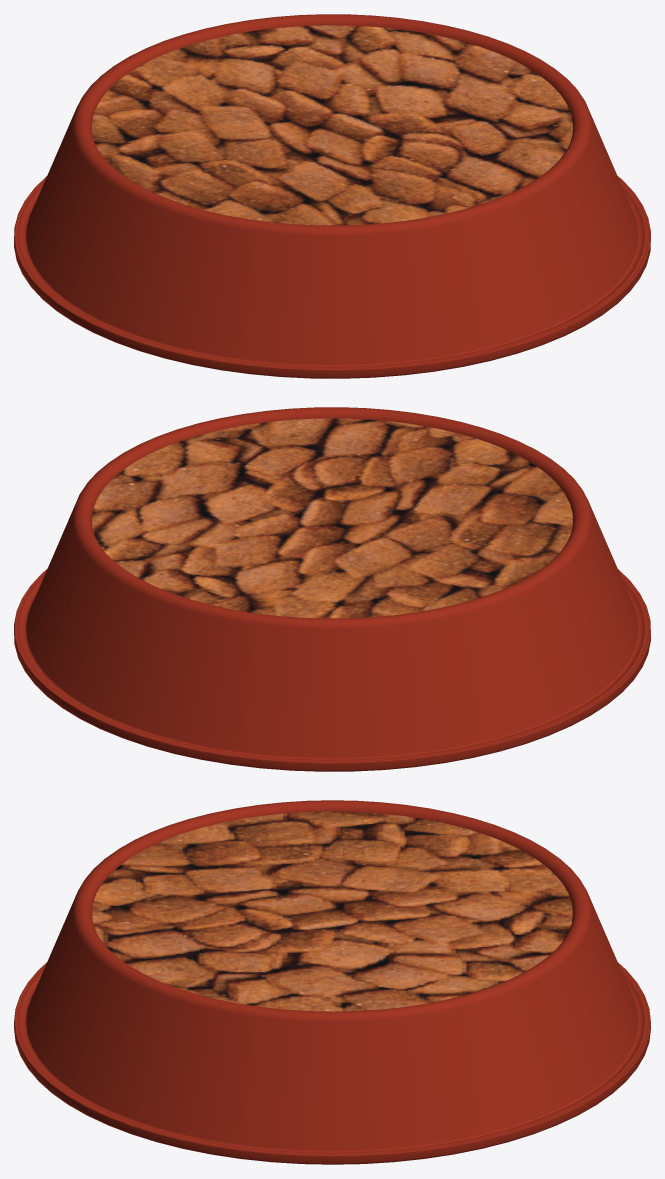
The model's file is bowlbowl.fbx.
The picture shows the model from 3 angles, top to bottom: view 1: azimuth 30°, elevation 25°; view 2: azimuth 150°, elevation 25°; view 3: azimuth 270°, elevation 25°; orthographic projection.
Visible parts, largest first — view 1: DogBowl01, pPlane1; view 2: DogBowl01, pPlane1; view 3: DogBowl01, pPlane1.
Boxes of the visible parts, x1,y1,x2,y2 form: DogBowl01: [14, 14, 650, 378]; pPlane1: [92, 25, 572, 225]; DogBowl01: [14, 407, 650, 771]; pPlane1: [92, 418, 572, 618]; DogBowl01: [14, 800, 650, 1164]; pPlane1: [92, 811, 572, 1011].
Bounding box in the file's own units: 234 × 50.32 × 234.
Materials: 1 (1 with a texture image).
